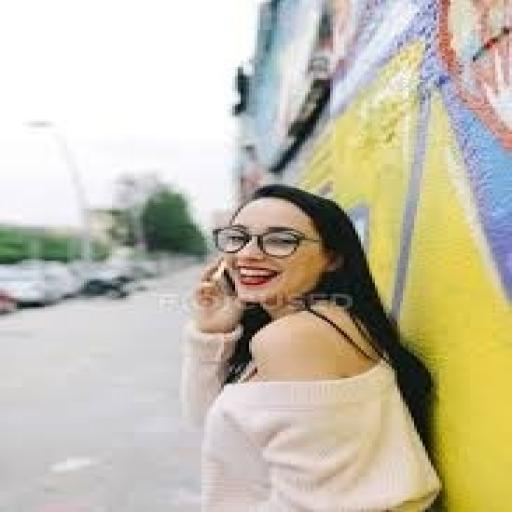laughing: (170, 179, 448, 510)
